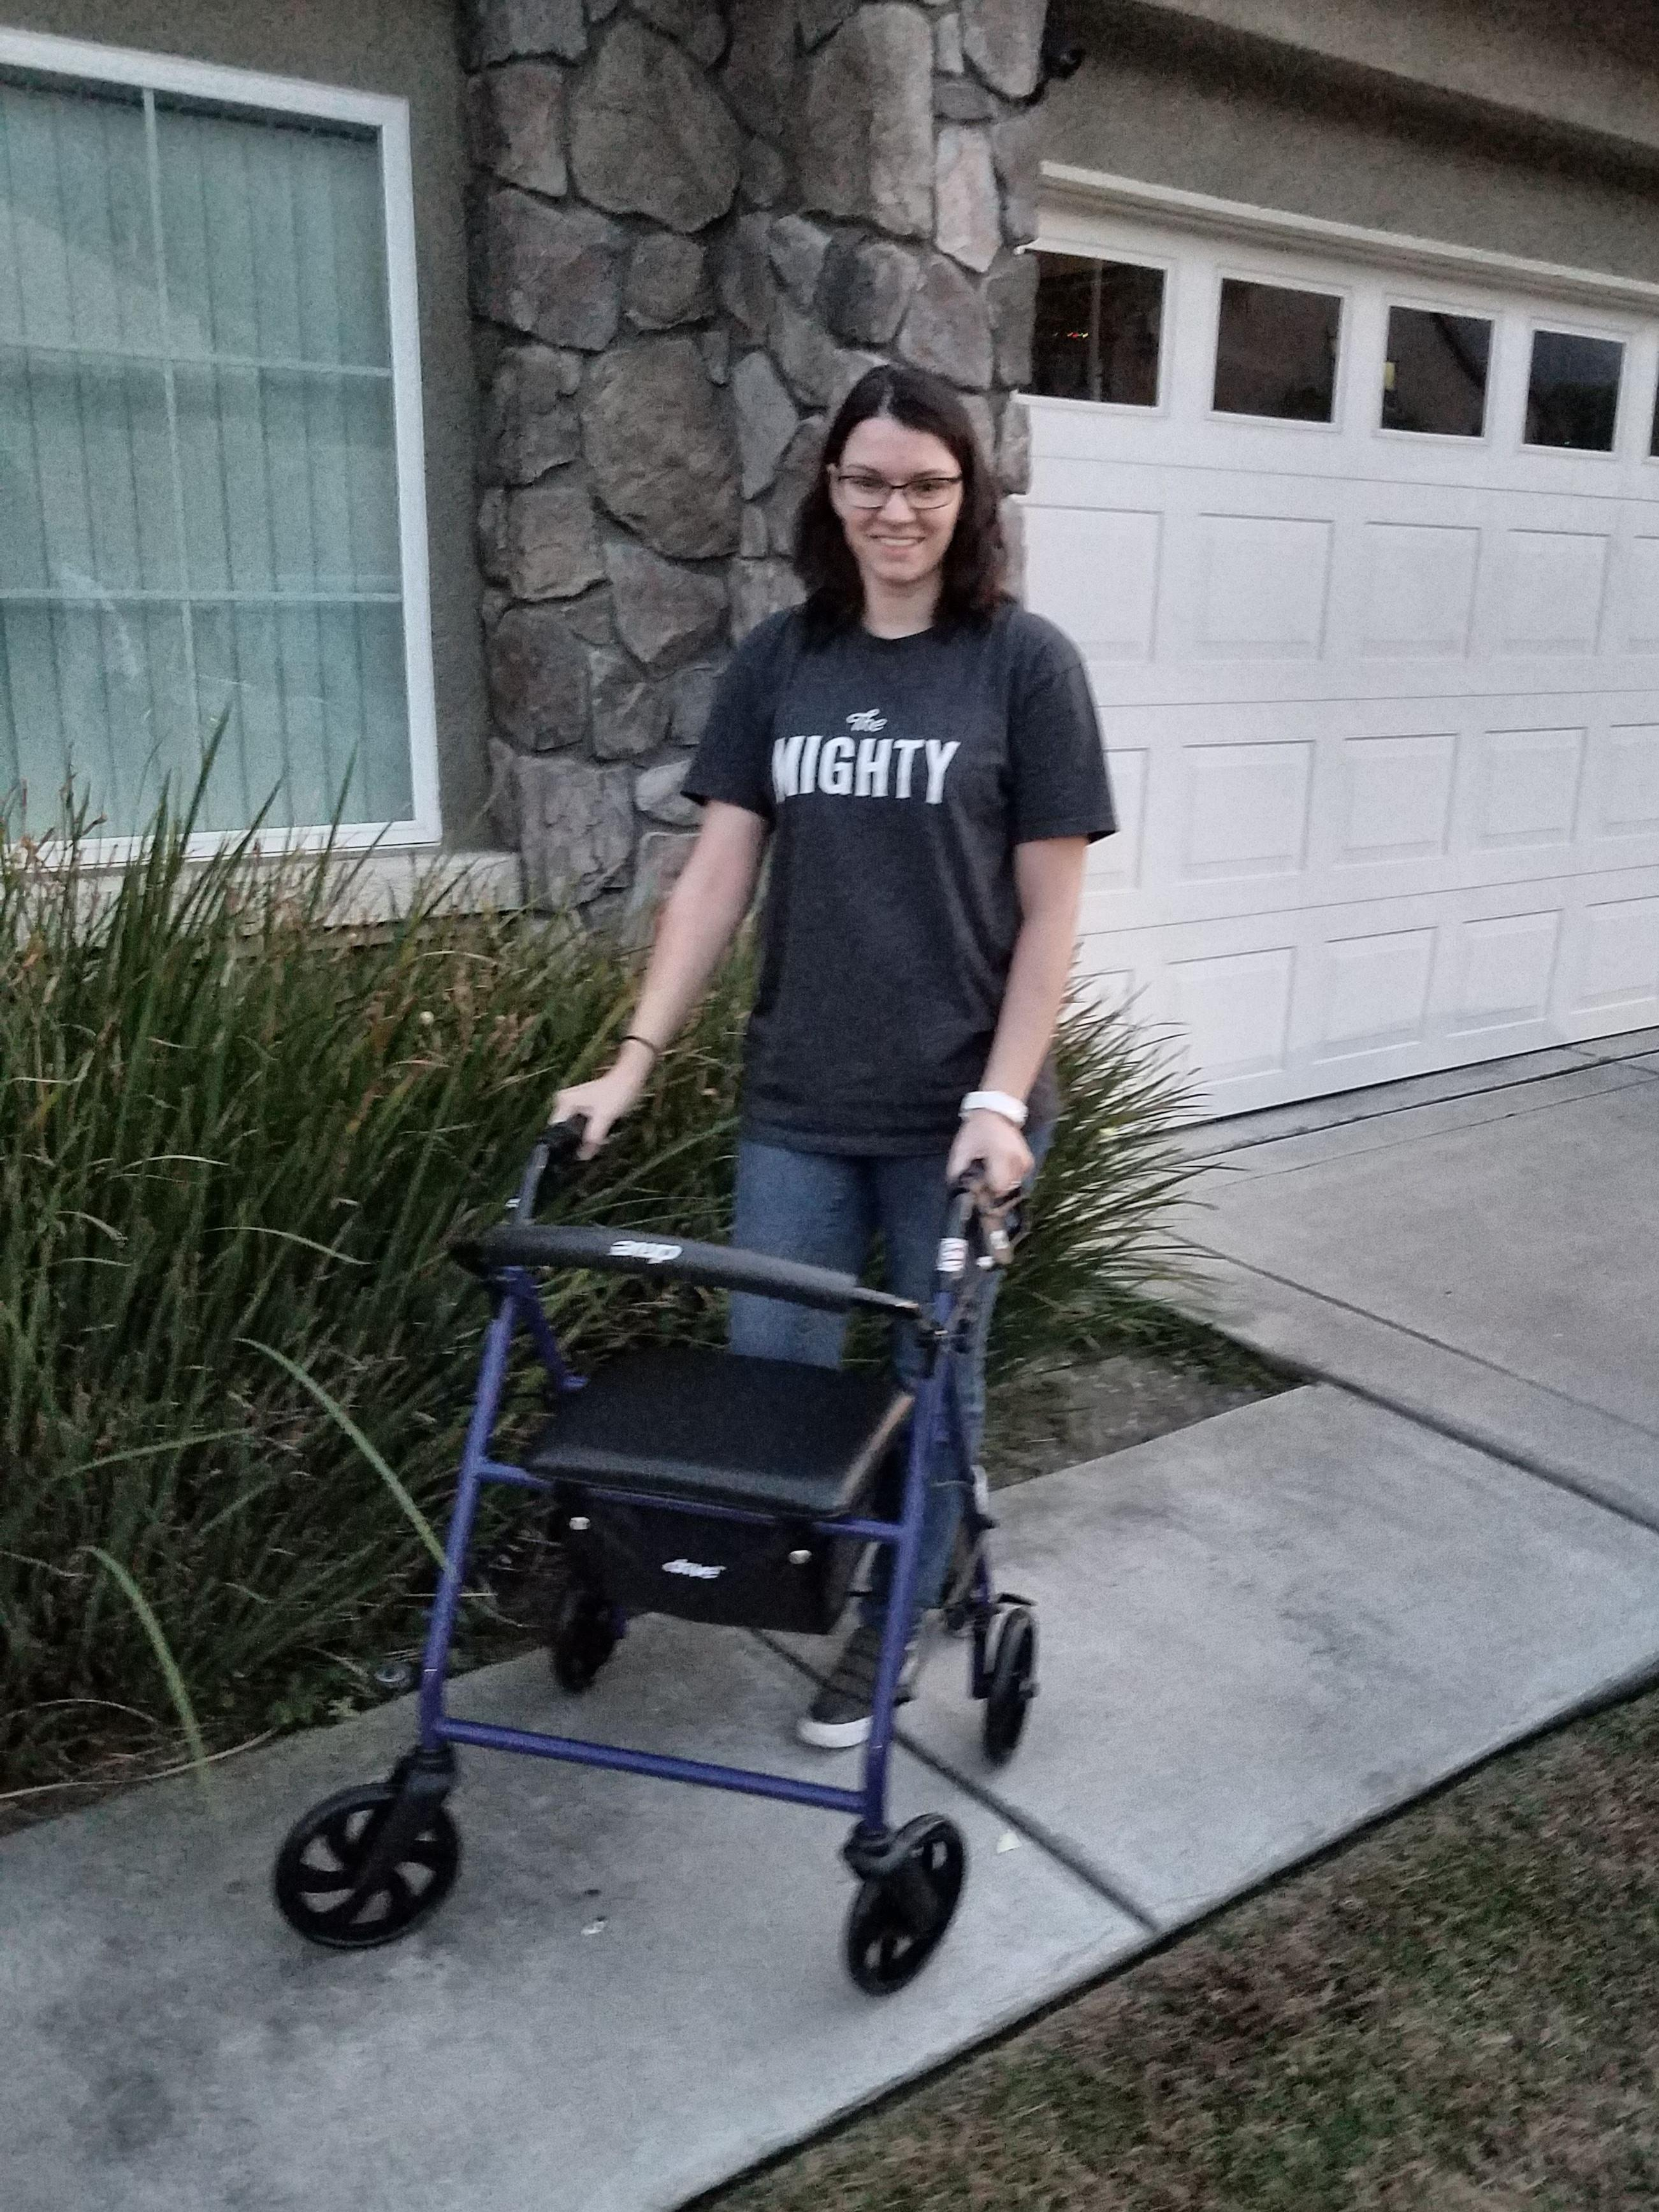walking_frame: (272, 364, 1119, 1996)
